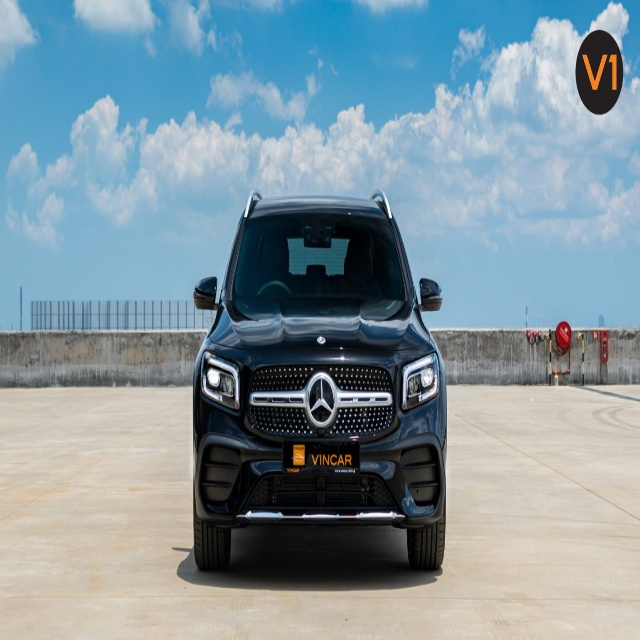Car: (193, 189, 447, 571)
